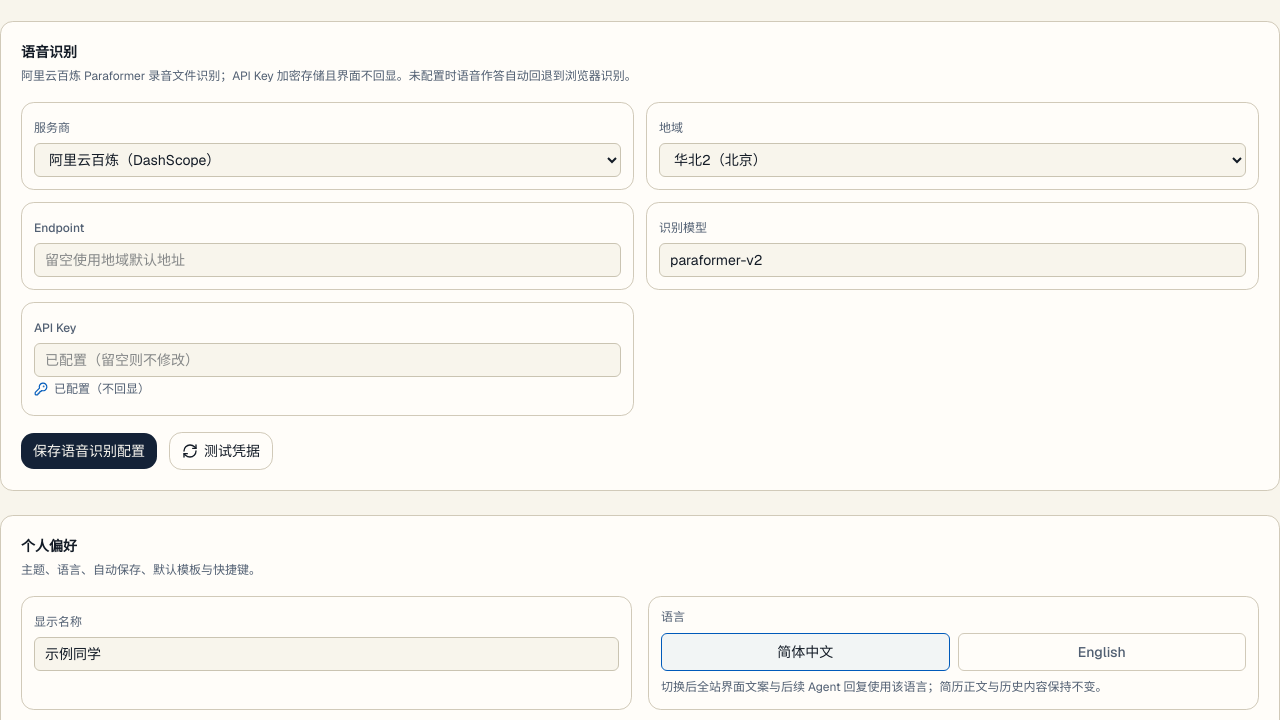
Scenario: SettingsForm 语音识别配置 › 显示脱敏状态，保存时把当前表单值（含新 Key）提交
(page scrolled)
Type "sk-new-speech" into the password field labelled "API Key 已配置（不回显）" at (328, 360), box [34,343,621,377]
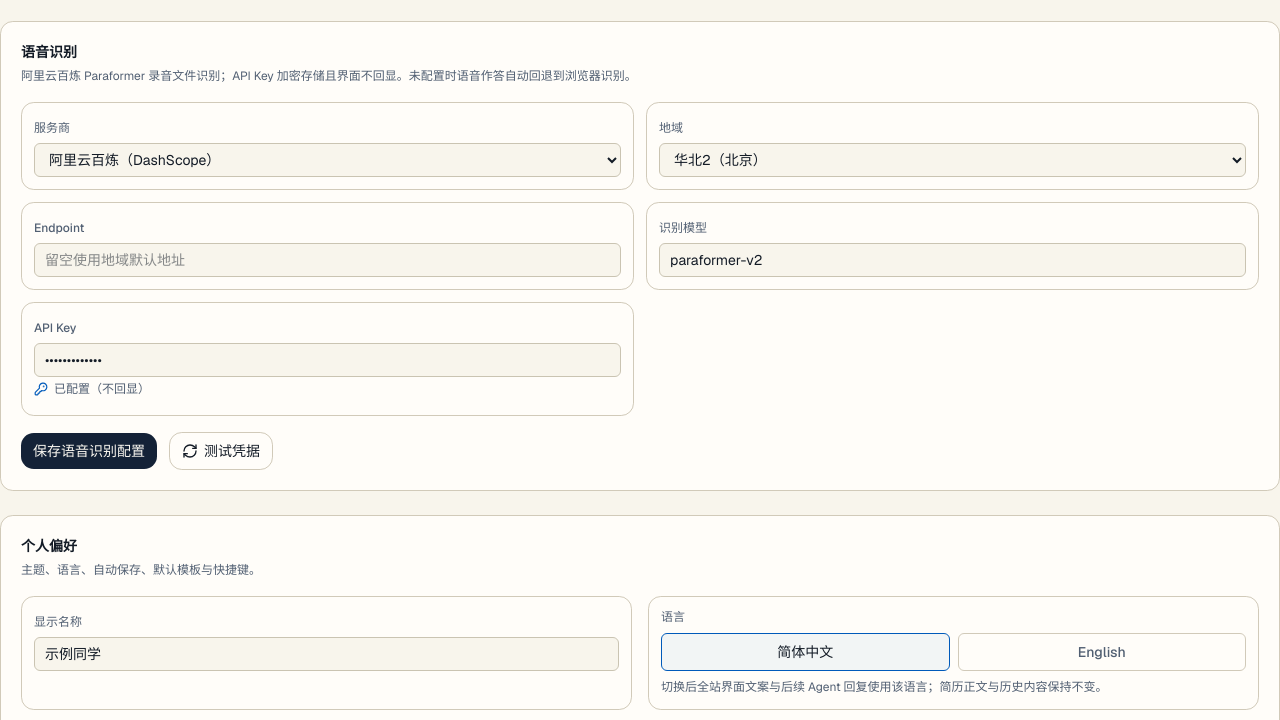
Click the button "保存语音识别配置" at (89, 451), box [21,433,157,469]
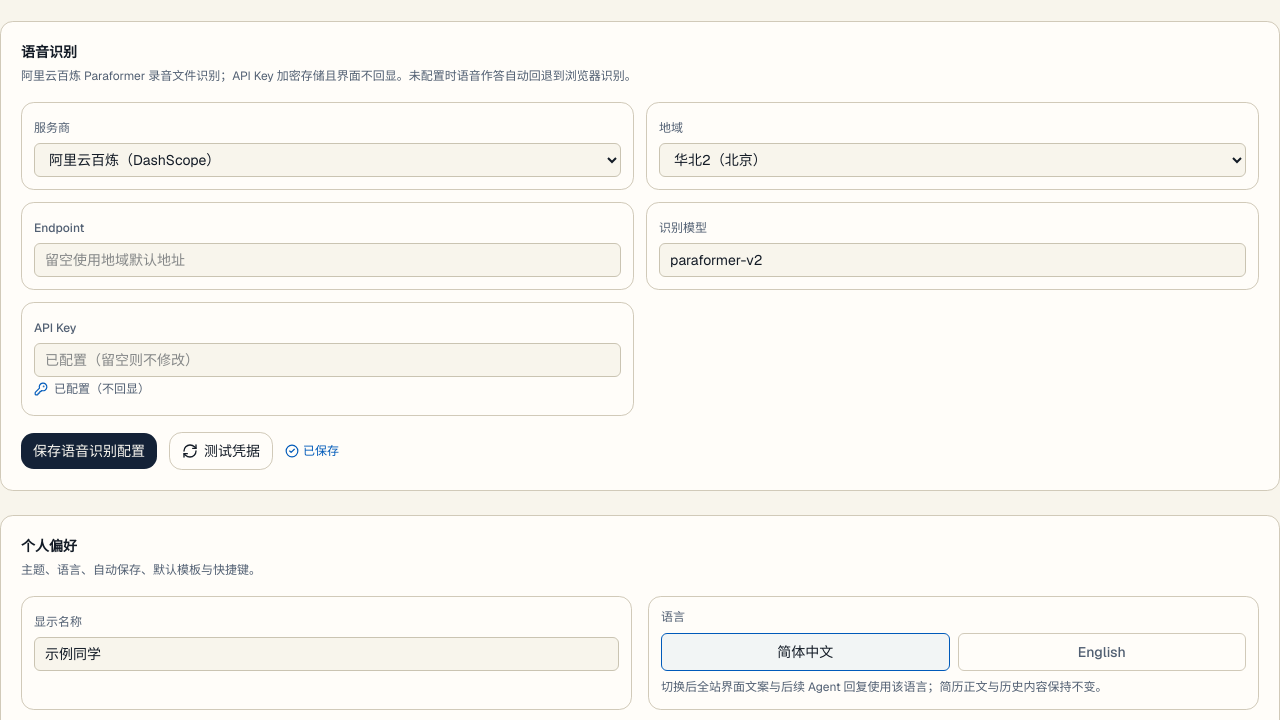
Now the text "已保存" is shown, box [285,443,339,459]
